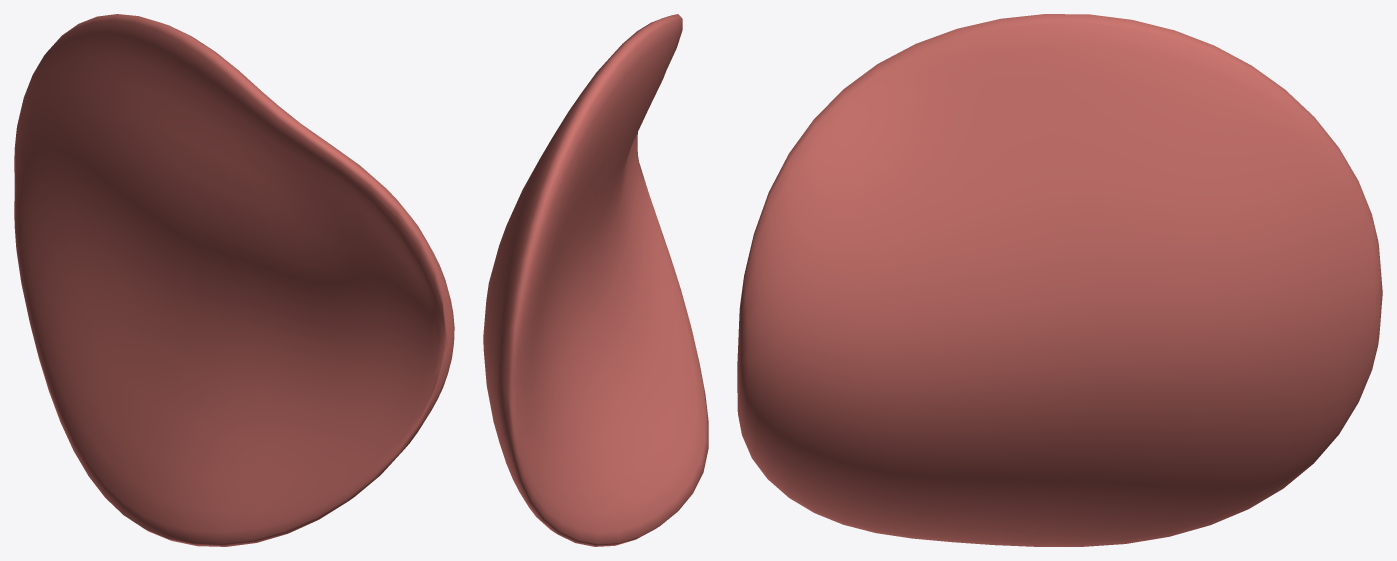
3 views of the same model, side by side, from view 1: azimuth 30°, elevation 25°; view 2: azimuth 150°, elevation 25°; view 3: azimuth 270°, elevation 25° (orthographic). The views are drawn at different scales.
Visible parts, largest first — view 1: 左侧转子皮下囊; view 2: 左侧转子皮下囊; view 3: 左侧转子皮下囊.
Part boxes in pixels (x1,y1,x2,y2): 左侧转子皮下囊: (14, 14, 454, 546); 左侧转子皮下囊: (483, 14, 708, 546); 左侧转子皮下囊: (737, 14, 1382, 546).
Size of the model in its own units: 0.0169 by 0.041 by 0.0433.
